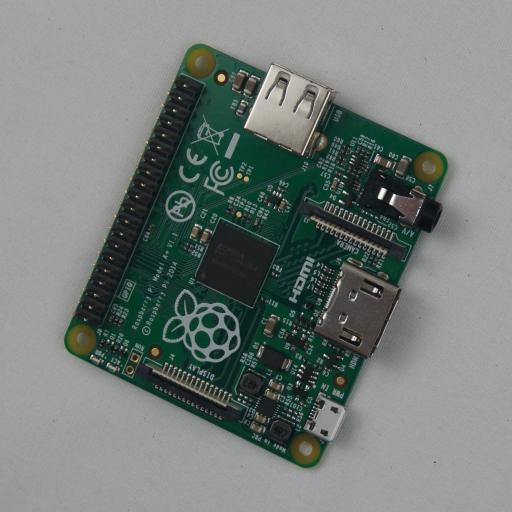Raspberry Pi A-: (64, 44, 448, 468)
